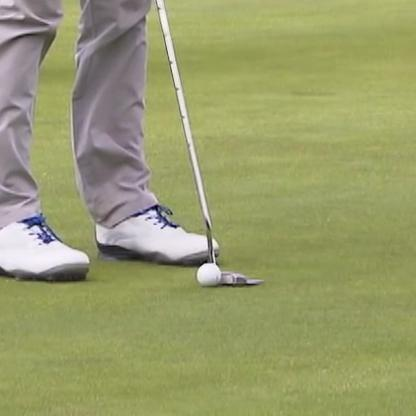golfball: (196, 262, 220, 286)
